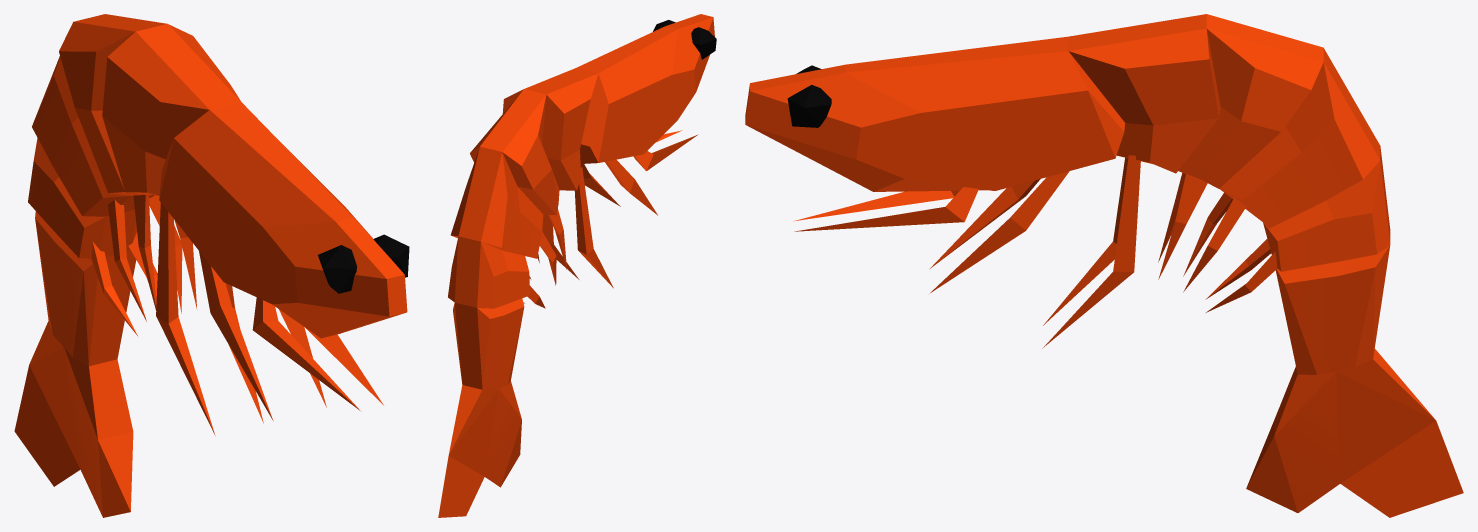
Rendered from Resources__items__creatures__Shrimp.glb.
3 views of the same model, side by side, from view 1: azimuth 30°, elevation 25°; view 2: azimuth 150°, elevation 25°; view 3: azimuth 270°, elevation 25° (orthographic). The views are drawn at different scales.
Parts seen in each view (by area): view 1: Shrimp; view 2: Shrimp; view 3: Shrimp.
Boxes of the visible parts, <box> form: Shrimp: <box>14,14,409,517</box>; Shrimp: <box>438,14,716,517</box>; Shrimp: <box>745,14,1463,517</box>.
Bounding box in the file's own units: 0.0123 × 0.0727 × 0.0953.
1 material, 1 textured.
